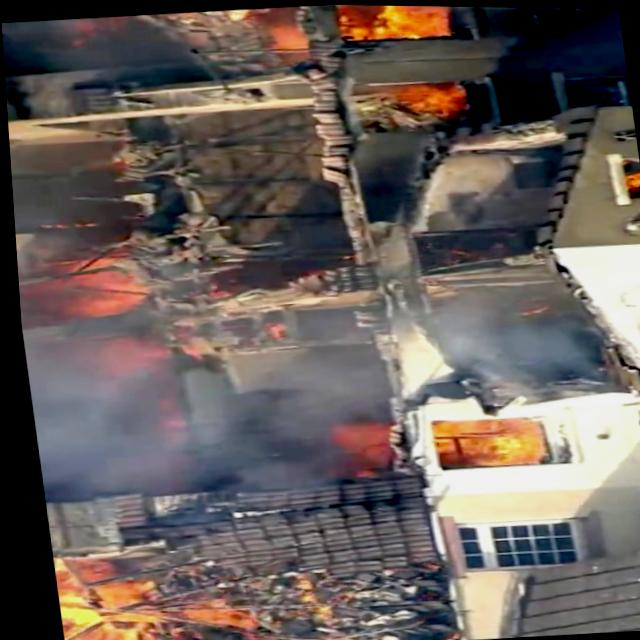fire: (0, 3, 277, 58), (40, 508, 139, 640), (336, 4, 471, 43)
